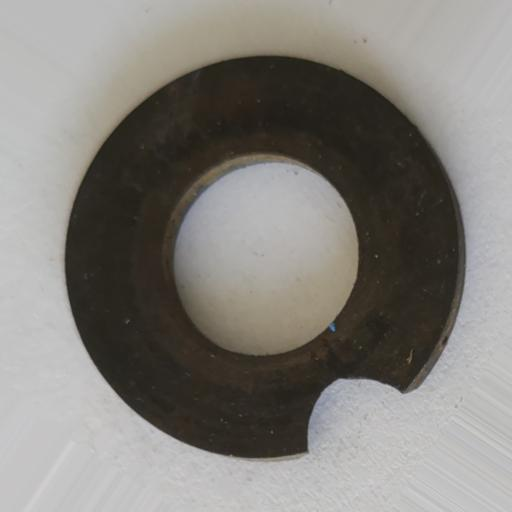defect: (306, 377, 406, 455)
